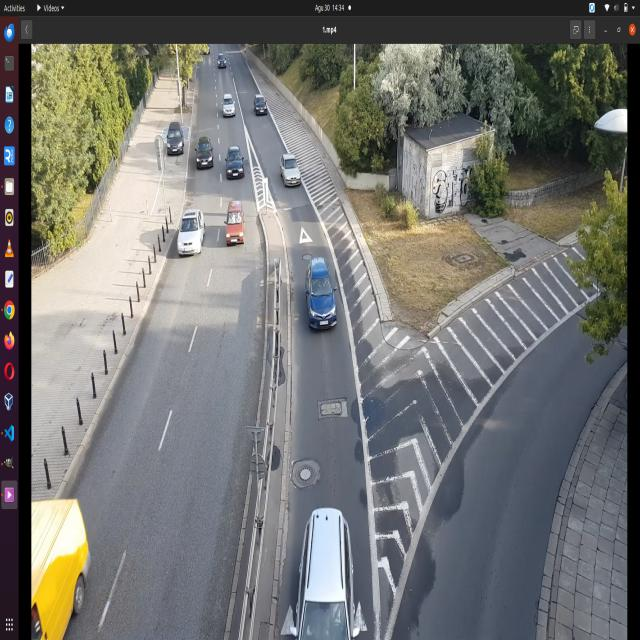person_with_seatbelt: (235, 210, 242, 223), (229, 212, 234, 222)
